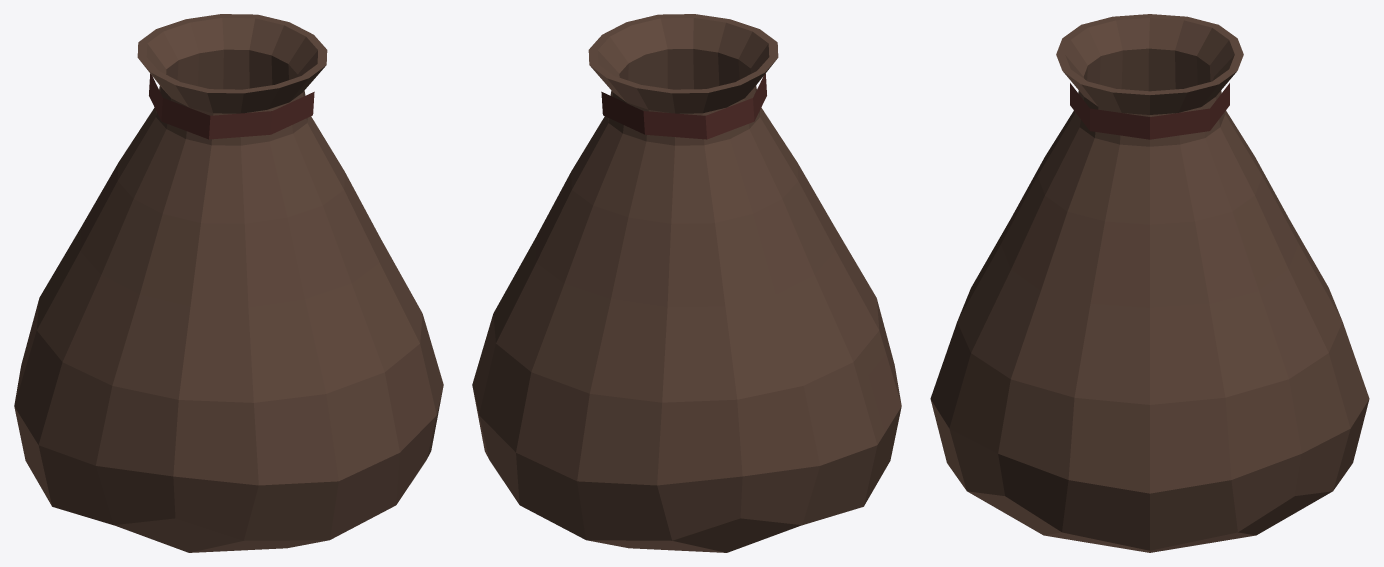
The model's file is pouch.glb.
3 renders of one model, left to right at view 1: azimuth 30°, elevation 25°; view 2: azimuth 150°, elevation 25°; view 3: azimuth 270°, elevation 25°, orthographic.
Visible parts, largest first — view 1: Bag; view 2: Bag; view 3: Bag.
Boxes of the visible parts, x1,y1,x2,y2 form: Bag: (14,14,443,552); Bag: (472,14,901,552); Bag: (930,14,1369,552).
Bounding box in the file's own units: 0.4704 × 0.5477 × 0.4704.
